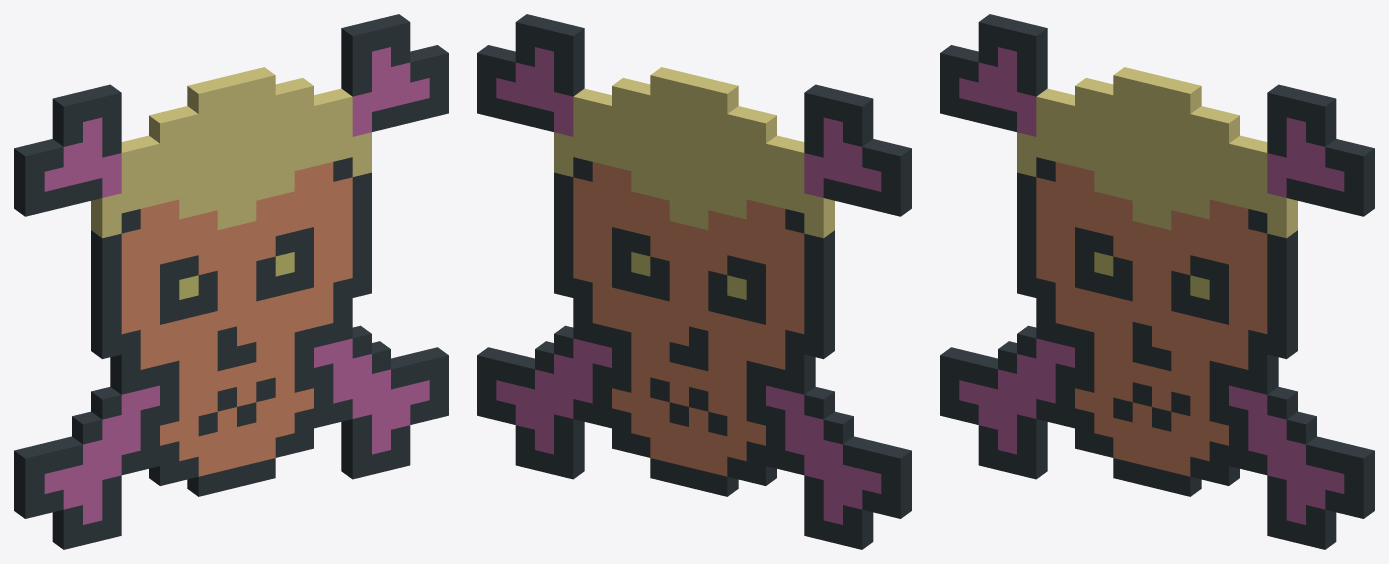
3 views of the same model, side by side, from view 1: azimuth 30°, elevation 25°; view 2: azimuth 150°, elevation 25°; view 3: azimuth 330°, elevation 25° (orthographic).
Size of the model in its own units: 1.1 by 1.1 by 0.05.
